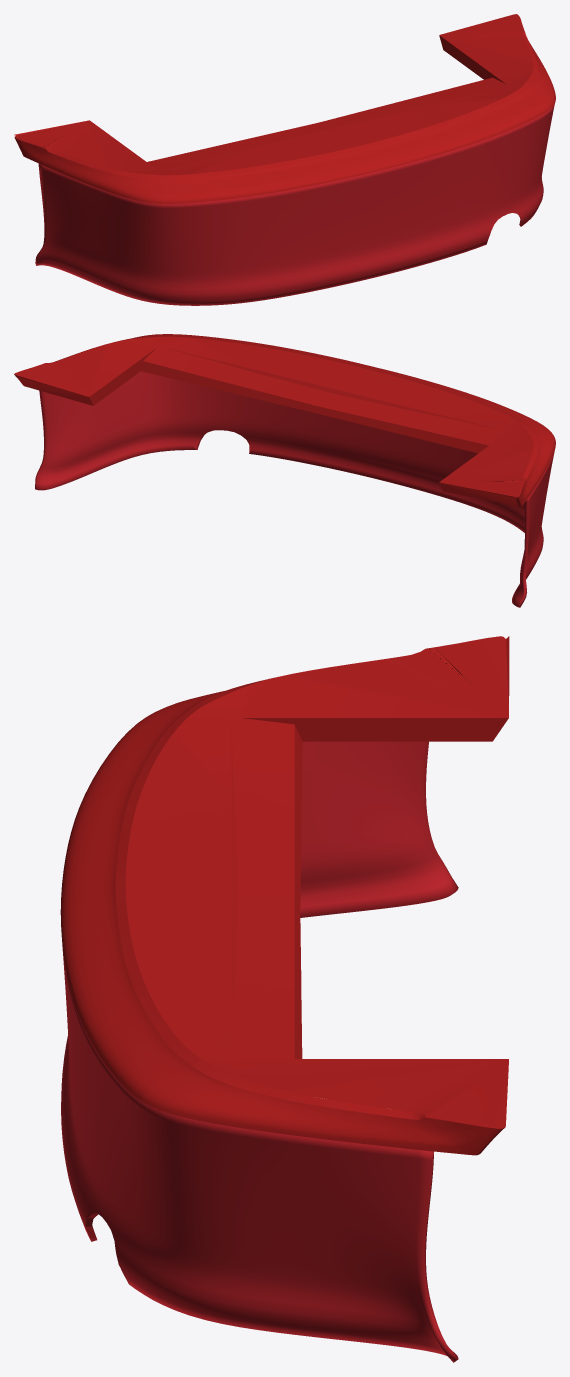
File: wings-west.glb
3 renders of one model, top to bottom at view 1: azimuth 30°, elevation 25°; view 2: azimuth 150°, elevation 25°; view 3: azimuth 270°, elevation 25°, orthographic. The views are drawn at different scales.
Parts seen in each view (by area): view 1: WingsWestRear_LowerValance, WingsWestRear_Miata_Stock_bumper-rear.002, WingsWestRear_Miata_Stock_bumper-rear.001; view 2: WingsWestRear_LowerValance, WingsWestRear_Miata_Stock_bumper-rear.002, WingsWestRear_Miata_Stock_bumper-rear.001; view 3: WingsWestRear_LowerValance, WingsWestRear_Miata_Stock_bumper-rear.002, WingsWestRear_Miata_Stock_bumper-rear.001.
Part boxes in pixels (x1,y1,x2,y2): WingsWestRear_LowerValance: (35,104,554,305); WingsWestRear_Miata_Stock_bumper-rear.002: (14,14,537,196); WingsWestRear_Miata_Stock_bumper-rear.001: (15,15,555,204); WingsWestRear_LowerValance: (35,371,554,607); WingsWestRear_Miata_Stock_bumper-rear.002: (14,336,542,506); WingsWestRear_Miata_Stock_bumper-rear.001: (14,334,555,506); WingsWestRear_LowerValance: (61,741,458,1362); WingsWestRear_Miata_Stock_bumper-rear.002: (65,636,509,1155); WingsWestRear_Miata_Stock_bumper-rear.001: (60,691,508,1154).
Size of the model in its own units: 64.88 by 15.16 by 25.02.
